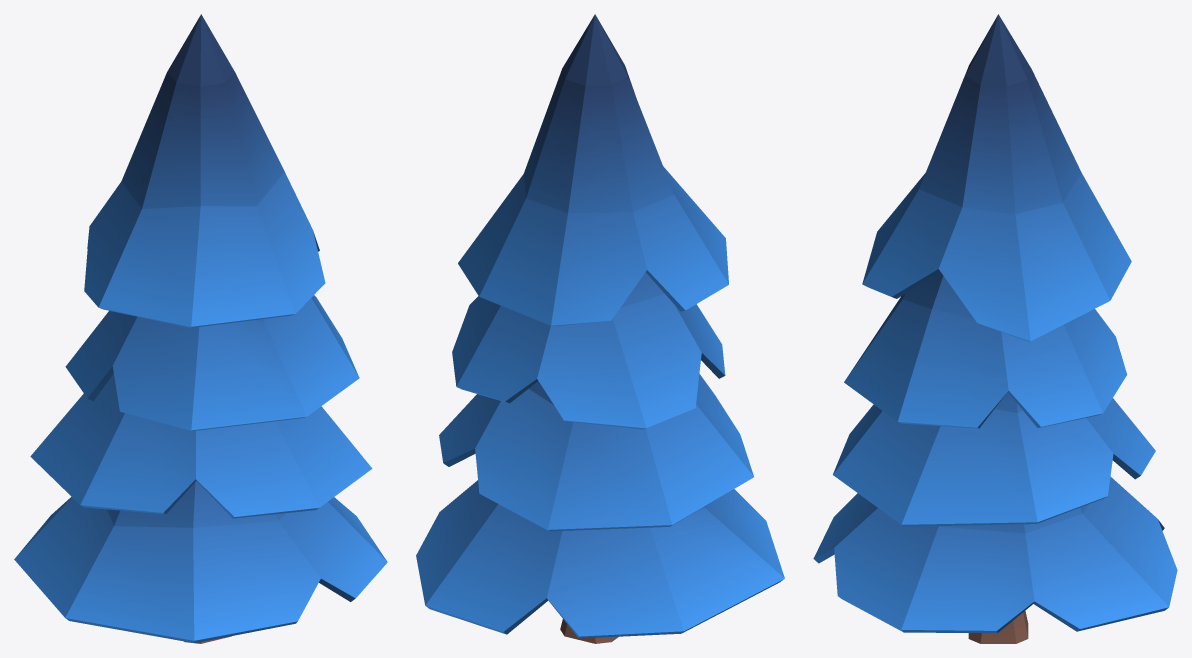
Rendered from BluePine5.fbx.
The picture shows the model from 3 angles, left to right: view 1: azimuth 30°, elevation 25°; view 2: azimuth 150°, elevation 25°; view 3: azimuth 270°, elevation 25°; orthographic projection.
Parts seen in each view (by area): view 1: BluePine5; view 2: BluePine5; view 3: BluePine5.
Part boxes in pixels (x1,y1,x2,y2): BluePine5: (14,14,387,643); BluePine5: (416,14,784,643); BluePine5: (813,14,1177,643).
Bounding box in the file's own units: 503 × 931 × 498.
